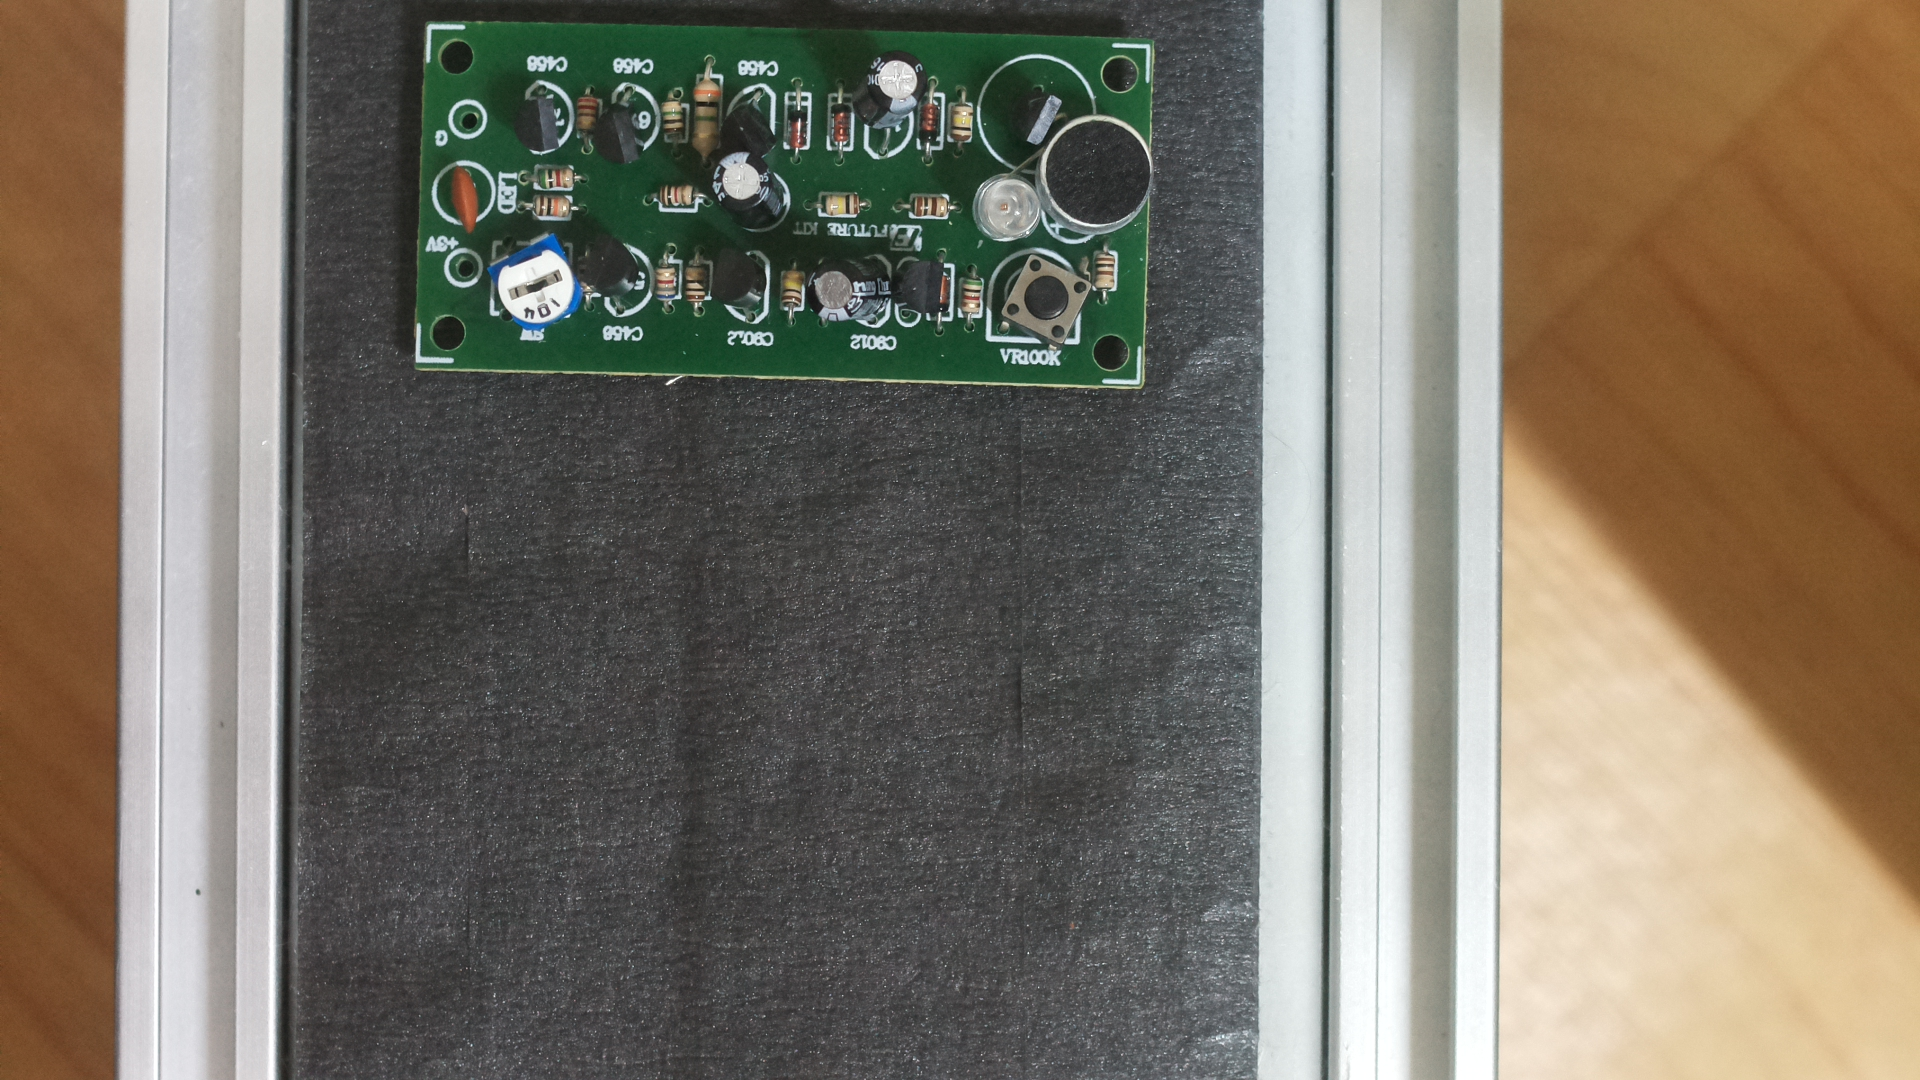A_Misordered: (410, 9, 1178, 405)
